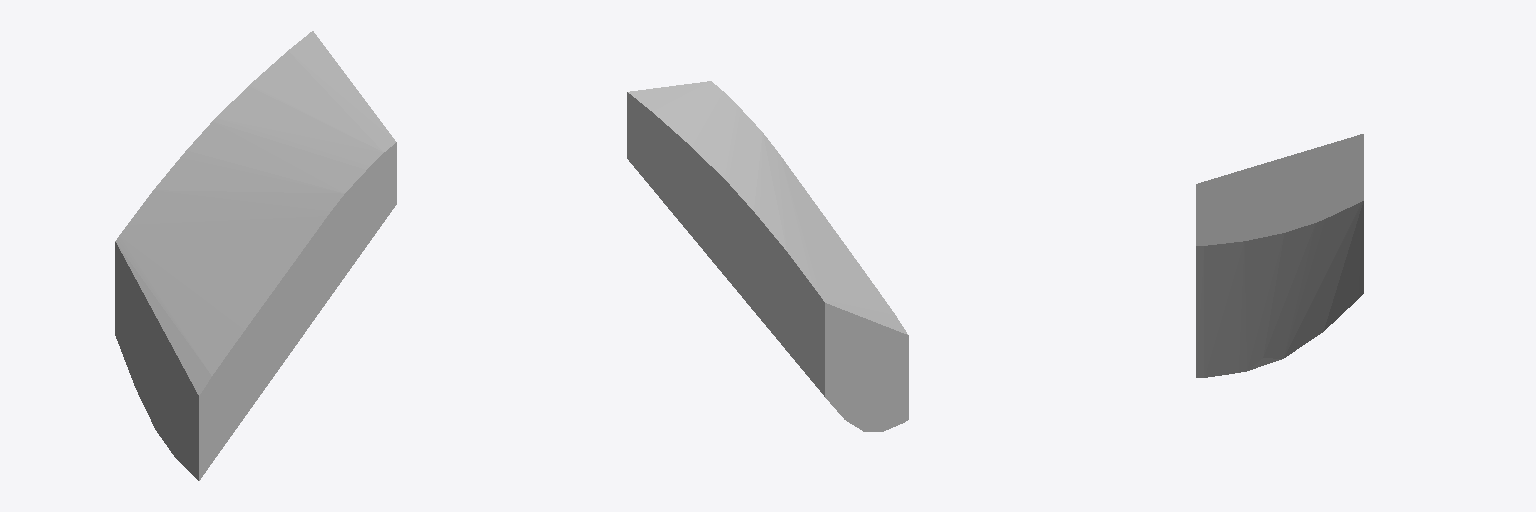
Rendered from phantom-elastrat_collision_464.obj.
The picture shows the model from 3 angles: view 1: azimuth 30°, elevation 25°; view 2: azimuth 150°, elevation 25°; view 3: azimuth 270°, elevation 25°; orthographic projection.
Bounding box in the file's own units: 0.0066 × 0.0109 × 0.0048.